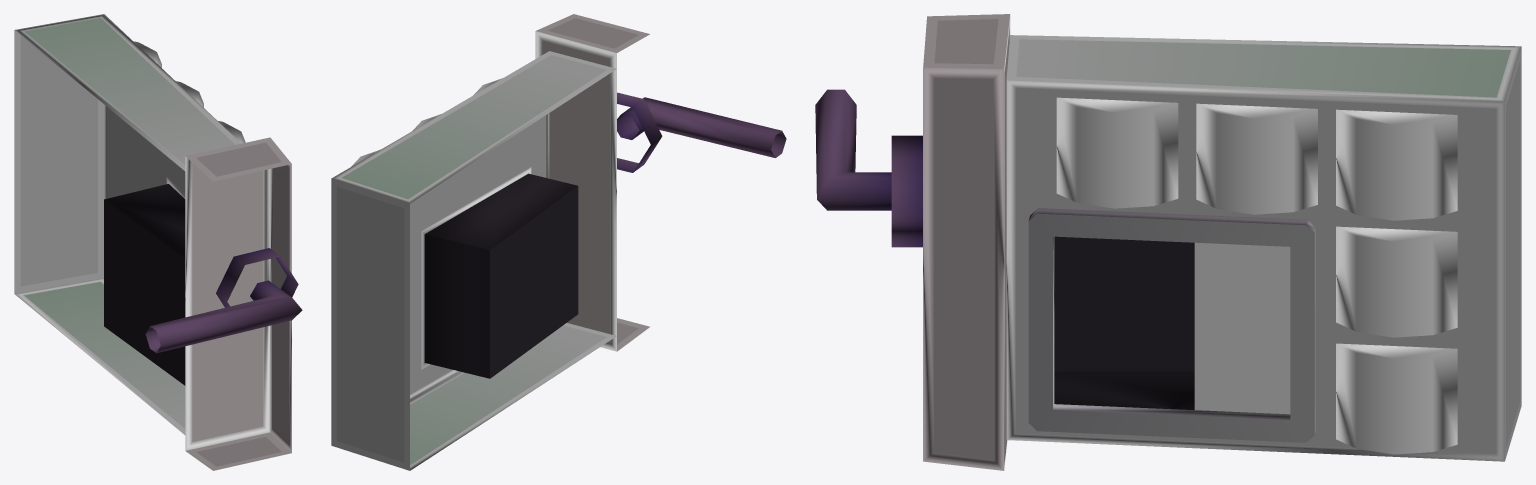
The model's file is VendingMachine.fbx.
3 views of the same model, side by side, from view 1: azimuth 30°, elevation 25°; view 2: azimuth 150°, elevation 25°; view 3: azimuth 270°, elevation 25° (orthographic). The views are drawn at different scales.
Visible parts, largest first — view 1: VendingMachine; view 2: VendingMachine; view 3: VendingMachine.
Boxes of the visible parts, x1,y1,x2,y2 form: VendingMachine: (14, 14, 302, 470); VendingMachine: (331, 14, 786, 470); VendingMachine: (815, 14, 1521, 470).
Size of the model in its own units: 62.55 by 84.57 by 135.
